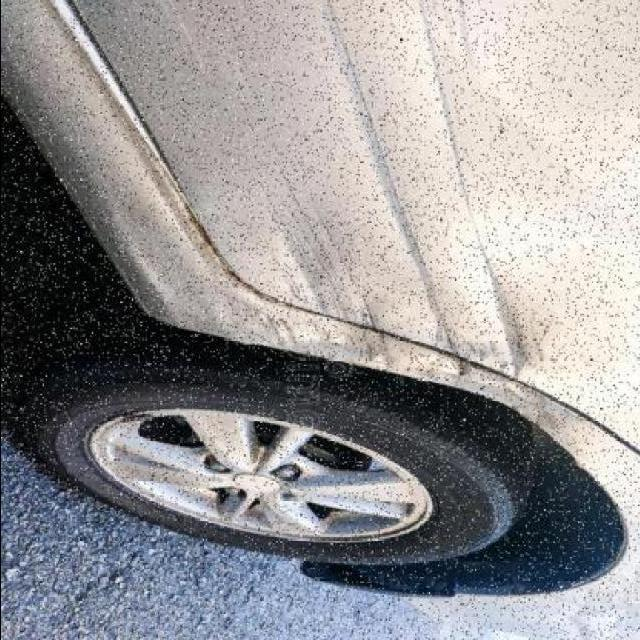doorouter-dent: (130, 0, 640, 351)
quaterpanel-dent: (260, 351, 548, 555)
